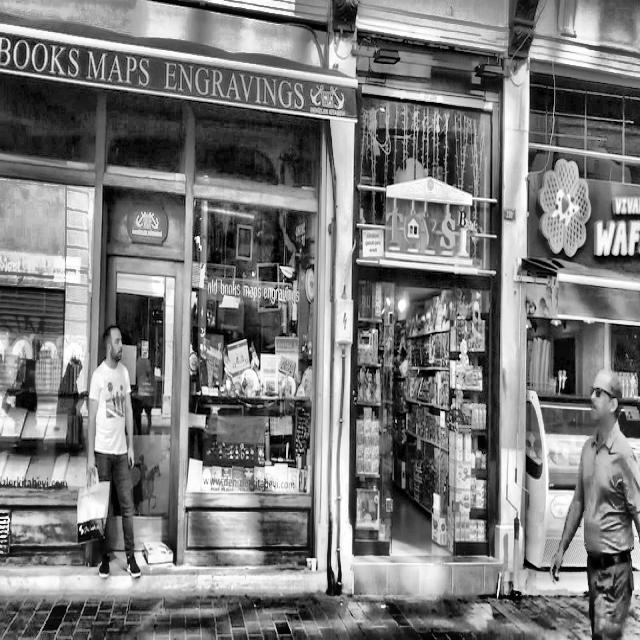Helmet: (582, 360, 628, 440)
